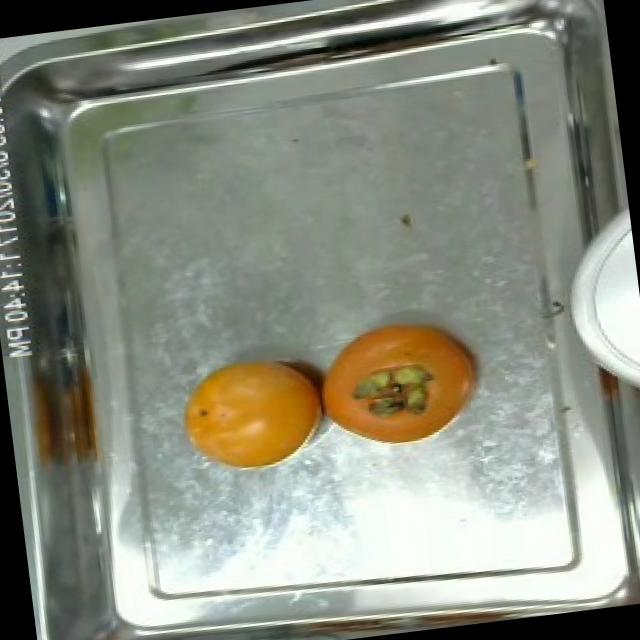Fruit: (302, 298, 500, 463), (165, 342, 340, 482)
